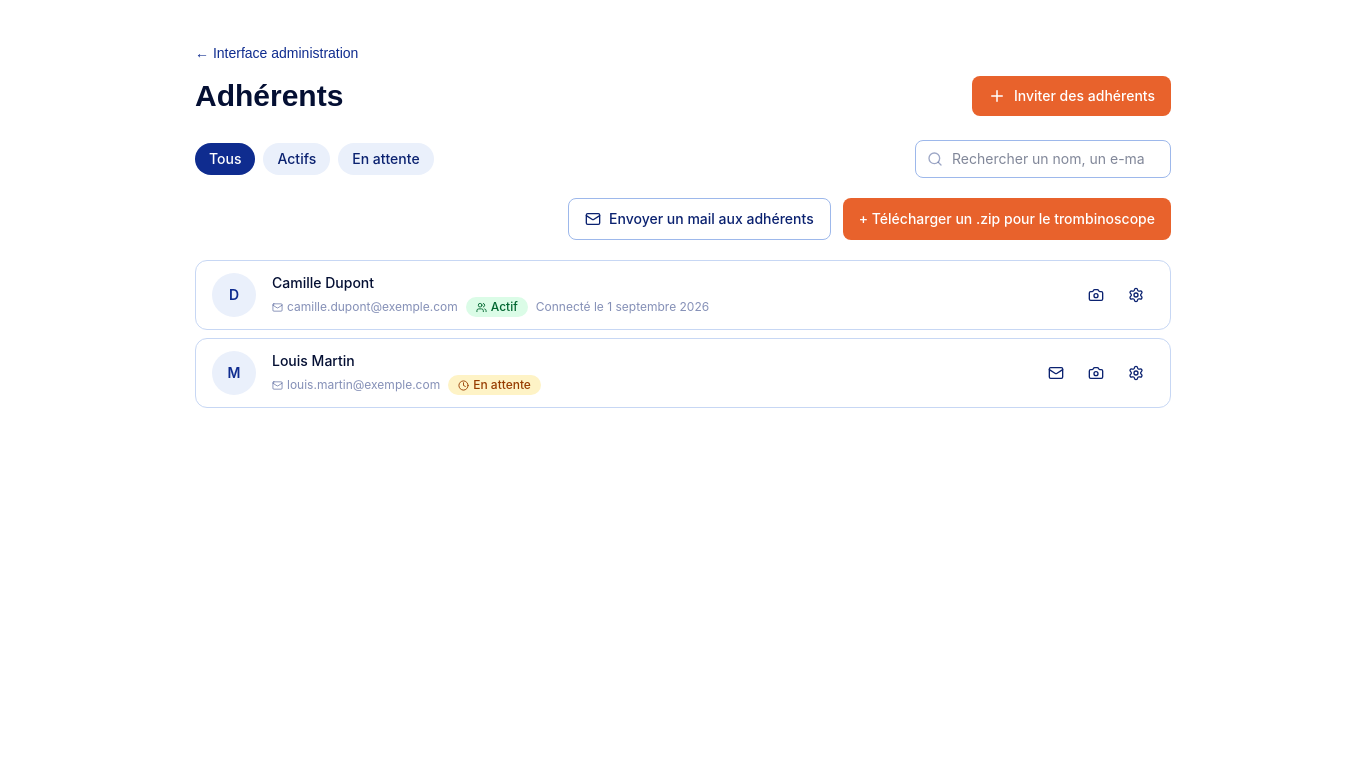
Scenario: GestionAdherents › ouvre l'invitation vide, puis l'édition pré-remplie depuis les actions
Expected: the text "Camille Dupont" is shown, left=272, top=274, right=374, bottom=291
Click the button "Inviter des adhérents". click: (1072, 96)
box: left=972, top=76, right=1171, bottom=116
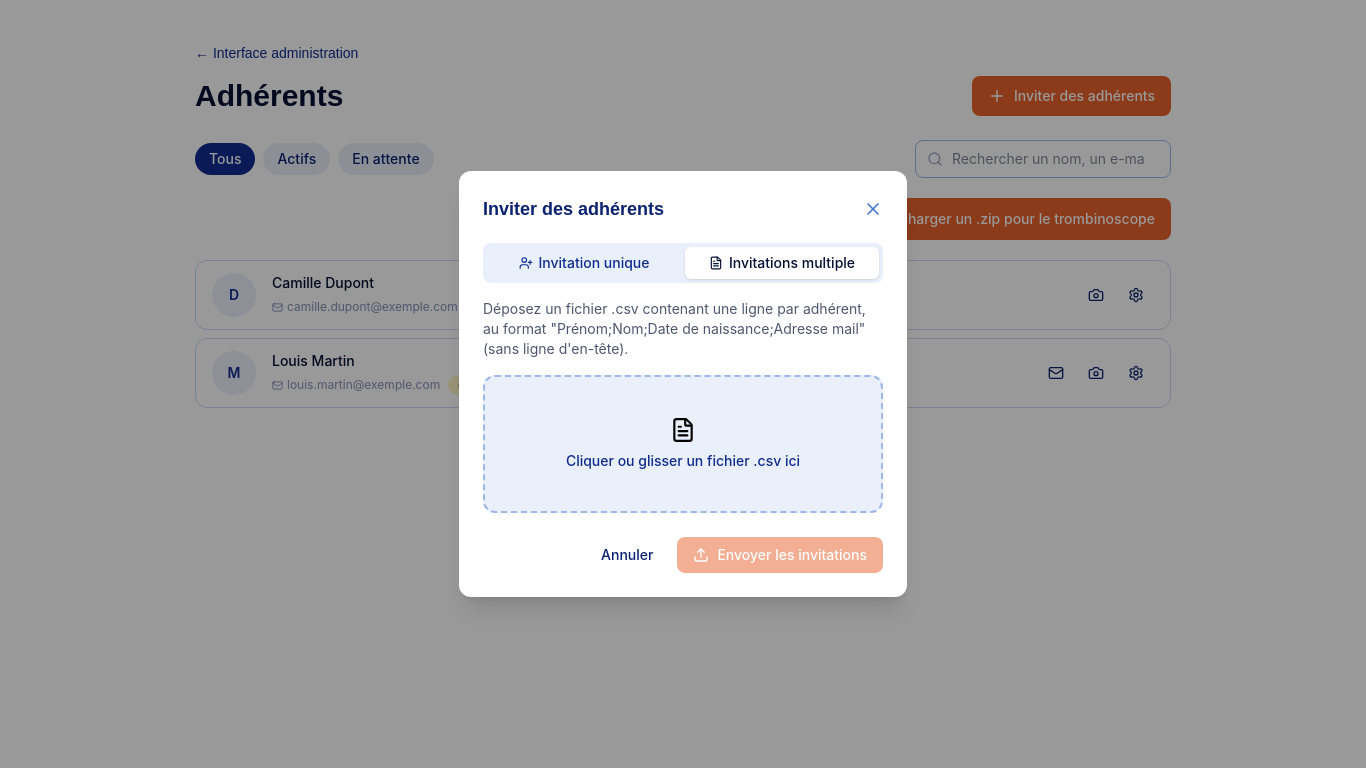
Expected: the button "Invitation unique" is shown
Click the button "Invitation unique". click: (584, 263)
box: left=487, top=247, right=681, bottom=279
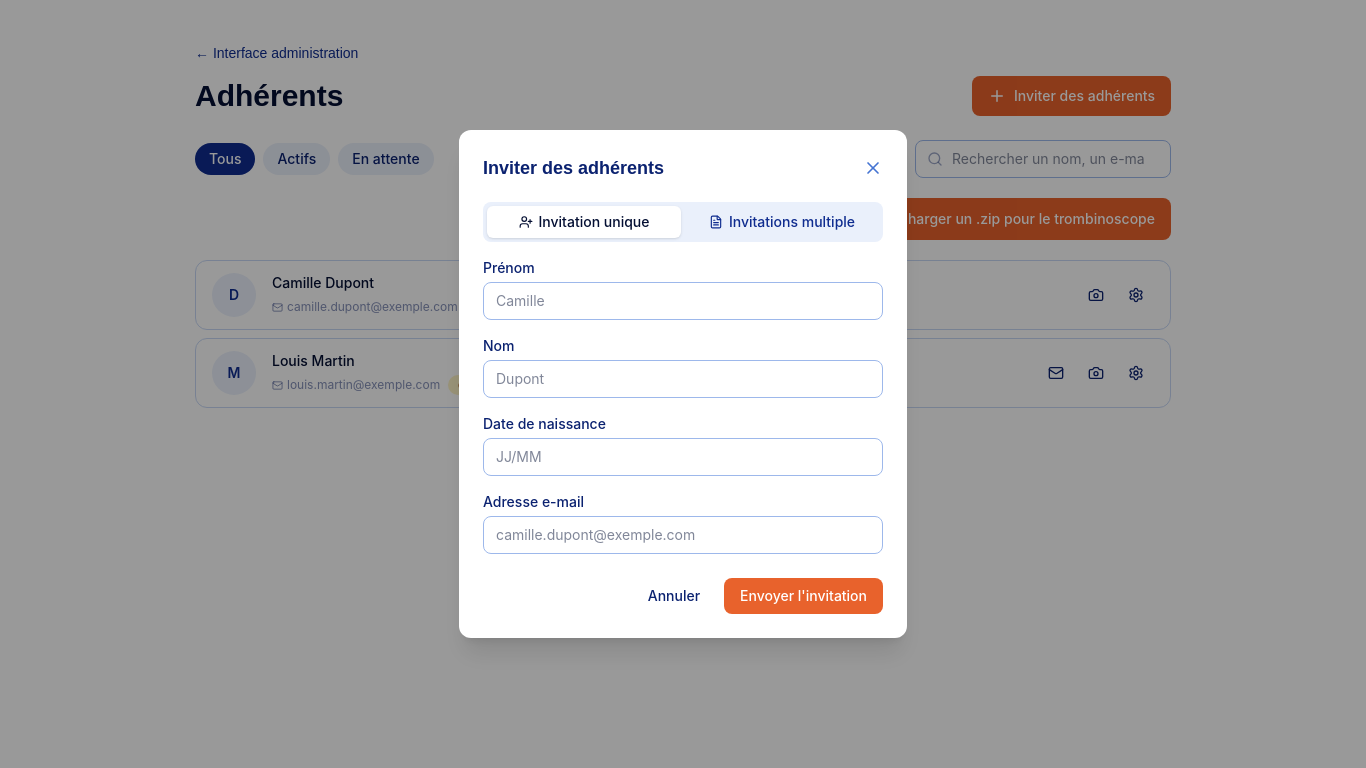
Expected: the field labelled "Prénom" is empty, left=483, top=282, right=883, bottom=320
Click the button named "Fermer". click: (873, 168)
box: left=863, top=158, right=883, bottom=178
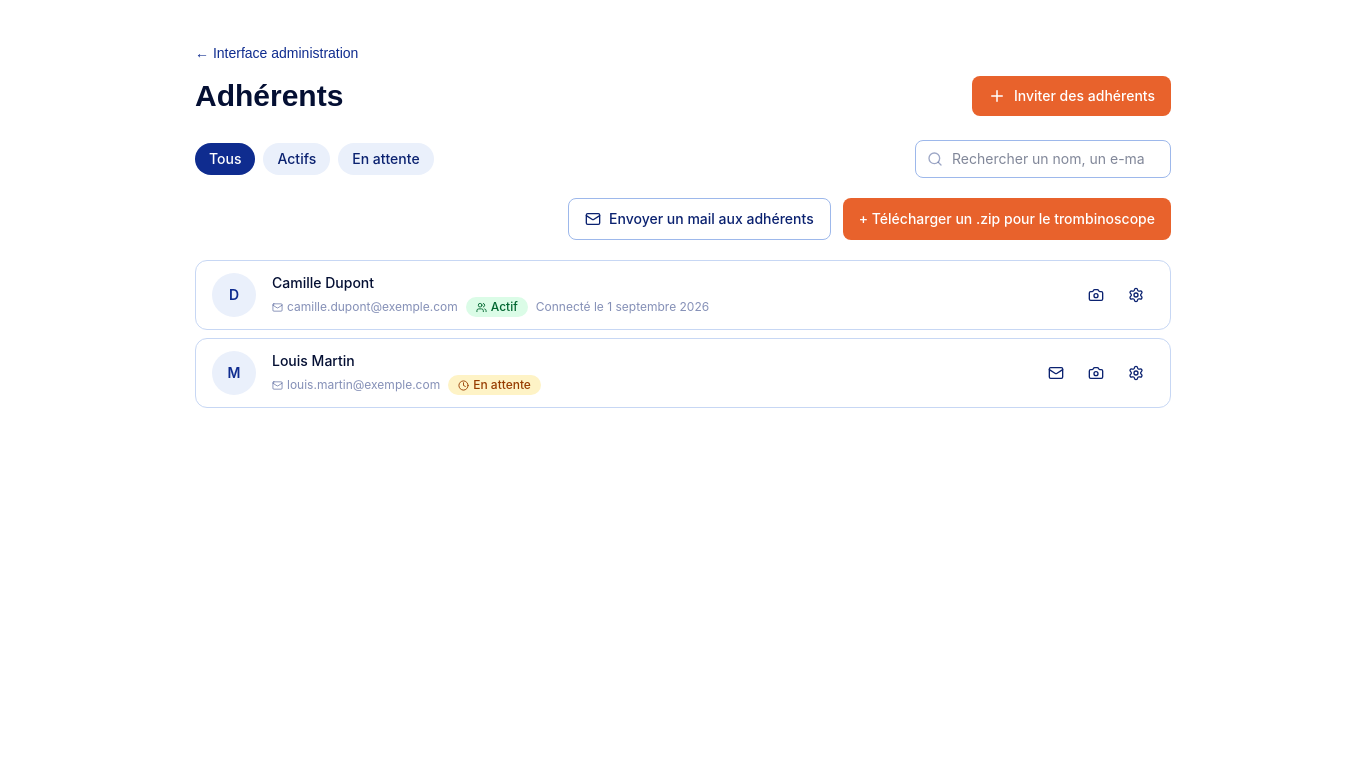
Expected: the label labelled "Prénom" is gone
Click the button named "Modifier l'utilisateur" in the row of "camille.dupont@exemple.com". click: (1136, 295)
box: left=1118, top=277, right=1154, bottom=313
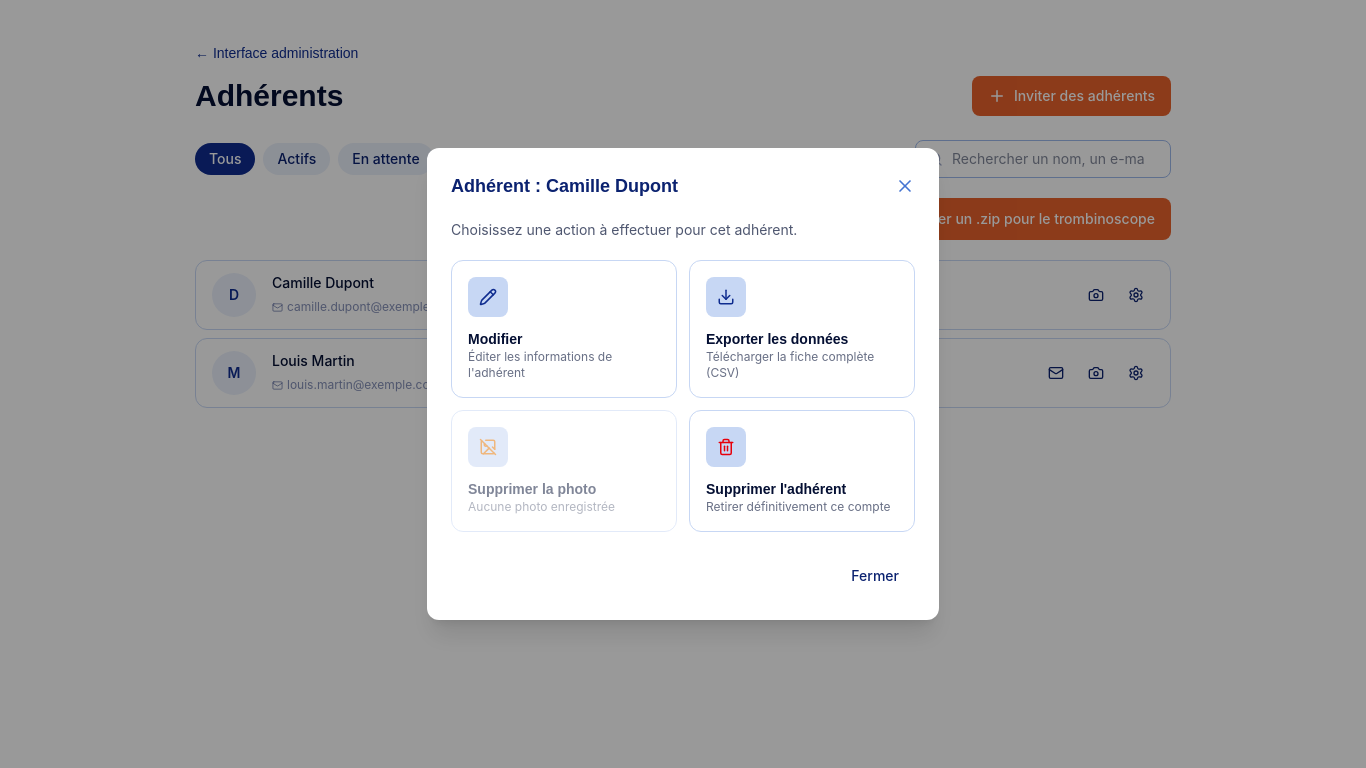
Click the button "Modifier Éditer les informations de l'adhérent". click: (564, 329)
box: left=451, top=260, right=677, bottom=398
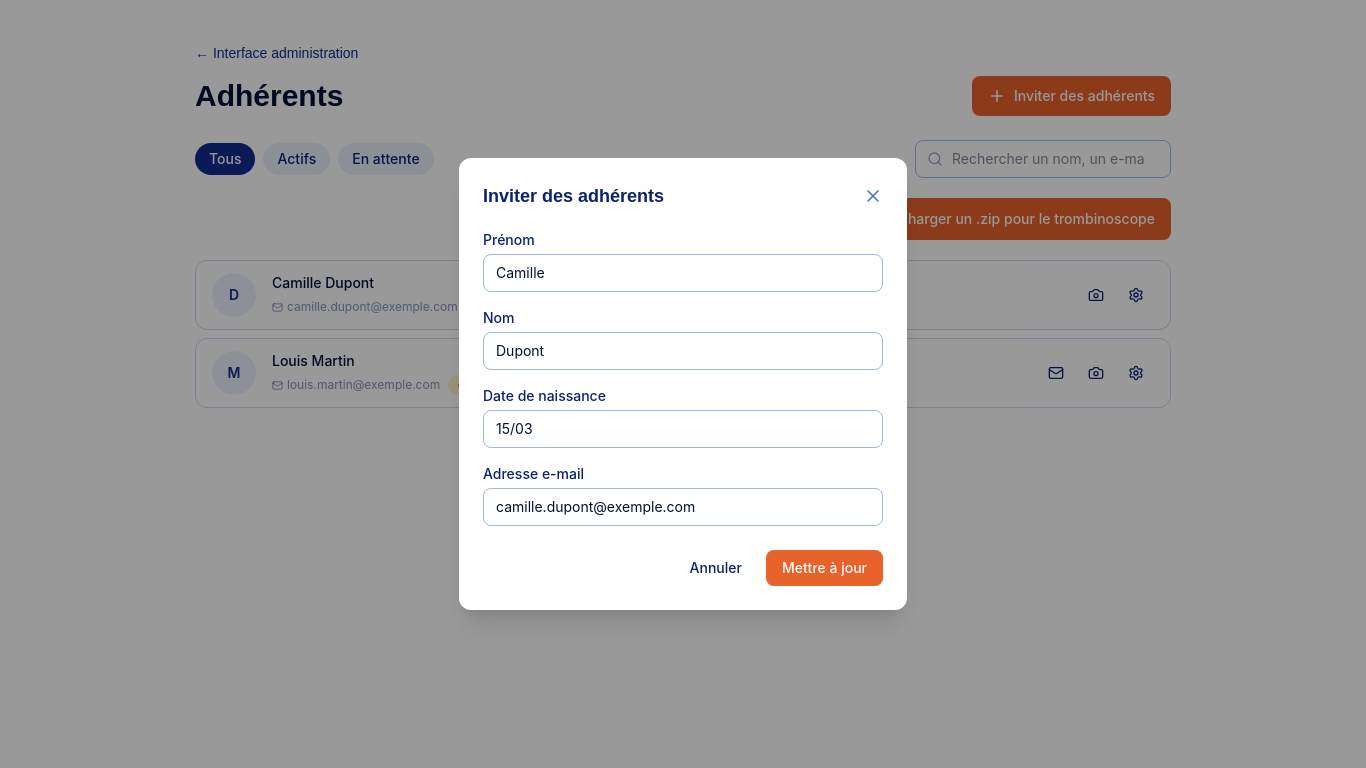
Expected: the field labelled "Prénom" holds "Camille", left=483, top=254, right=883, bottom=292
Expected: the field labelled "Adresse e-mail" holds "camille.dupont@exemple.com", left=483, top=488, right=883, bottom=526
